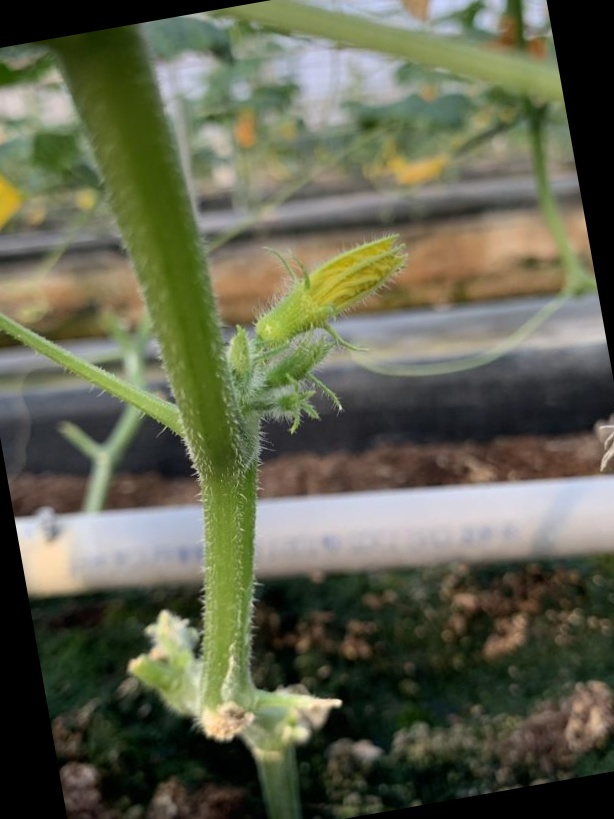bud: (252, 224, 414, 369)
